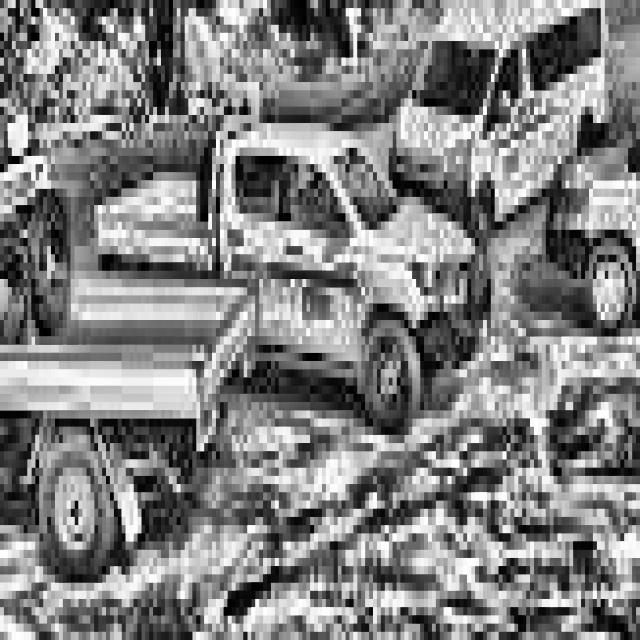light_vehicle: (94, 49, 518, 443), (0, 98, 271, 591), (377, 0, 640, 271), (553, 8, 640, 377)
